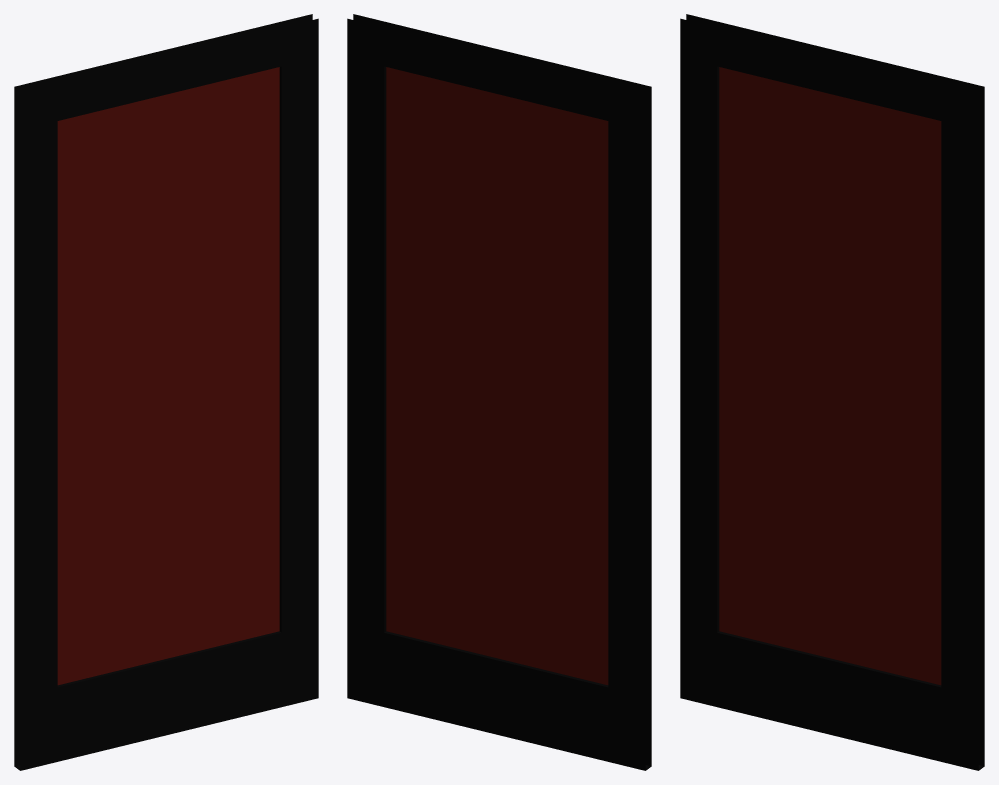
File: Flush_Door_glass_01.fbx
3 views of the same model, side by side, from view 1: azimuth 30°, elevation 25°; view 2: azimuth 150°, elevation 25°; view 3: azimuth 330°, elevation 25° (orthographic).
Visible parts, largest first — view 1: Door_Flush_01; view 2: Door_Flush_01; view 3: Door_Flush_01.
Part boxes in pixels (<box>): Door_Flush_01: <box>14,14,318,770</box>; Door_Flush_01: <box>347,14,651,770</box>; Door_Flush_01: <box>680,14,984,770</box>.
Size of the model in its own units: 37.99 by 1.38 by 82.68.
